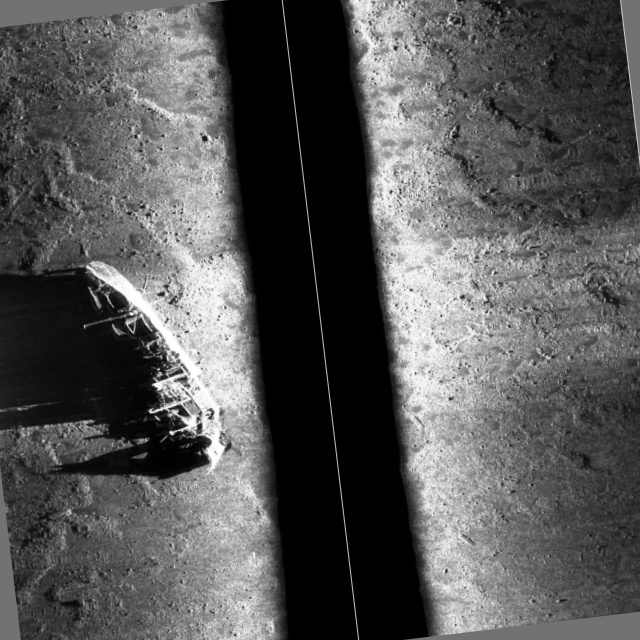Shipwreck: (75, 216, 508, 590)
